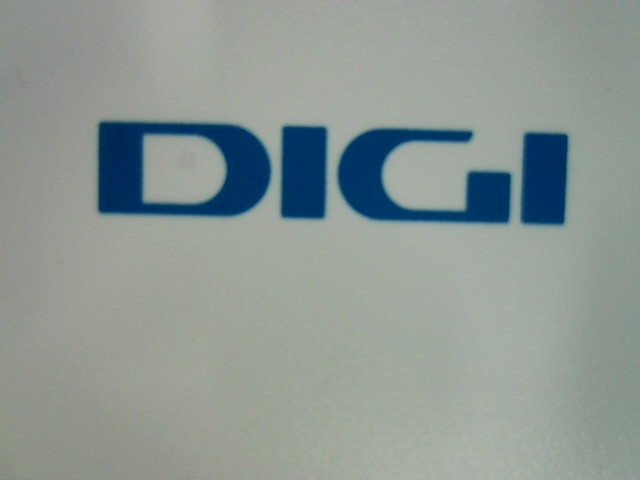BL_DIGI: (80, 103, 585, 229)
